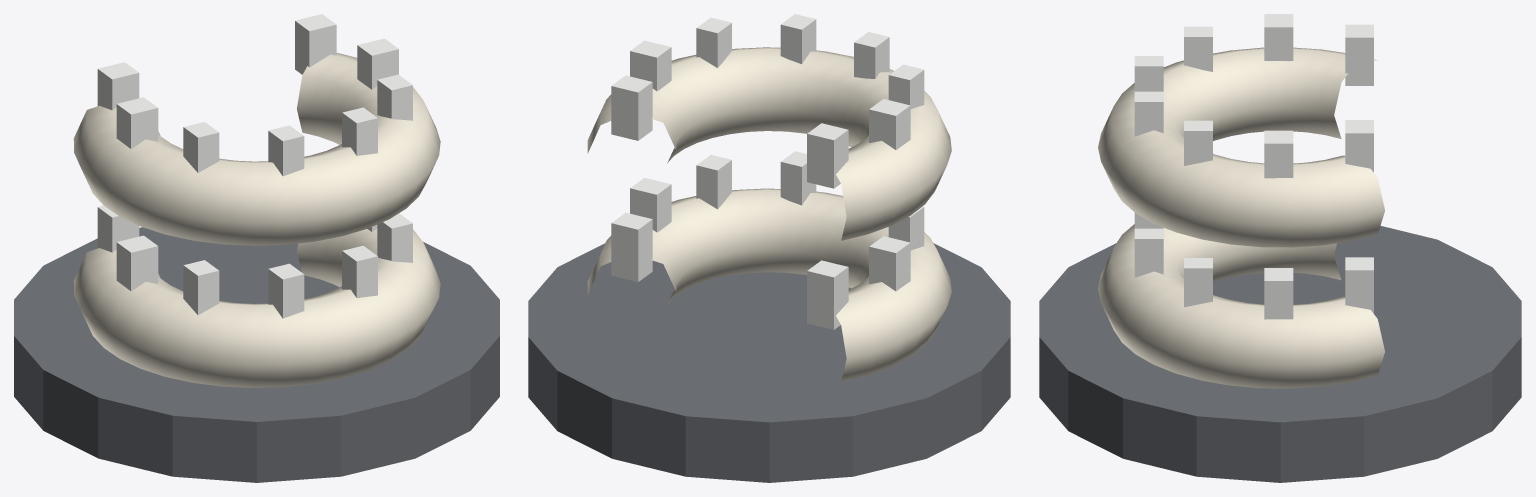
The model's file is human-anatomy-and-education-kit-teeth-set-ec630384__38949.glb.
3 views of the same model, side by side, from view 1: azimuth 30°, elevation 25°; view 2: azimuth 150°, elevation 25°; view 3: azimuth 270°, elevation 25° (orthographic).
Parts seen in each view (by area): view 1: teeth-set; view 2: teeth-set; view 3: teeth-set.
Part boxes in pixels (x1,y1,x2,y2): teeth-set: (14, 14, 499, 482); teeth-set: (528, 14, 1010, 482); teeth-set: (1039, 14, 1521, 482).
Size of the model in its own units: 0.22 by 0.149 by 0.2167.
